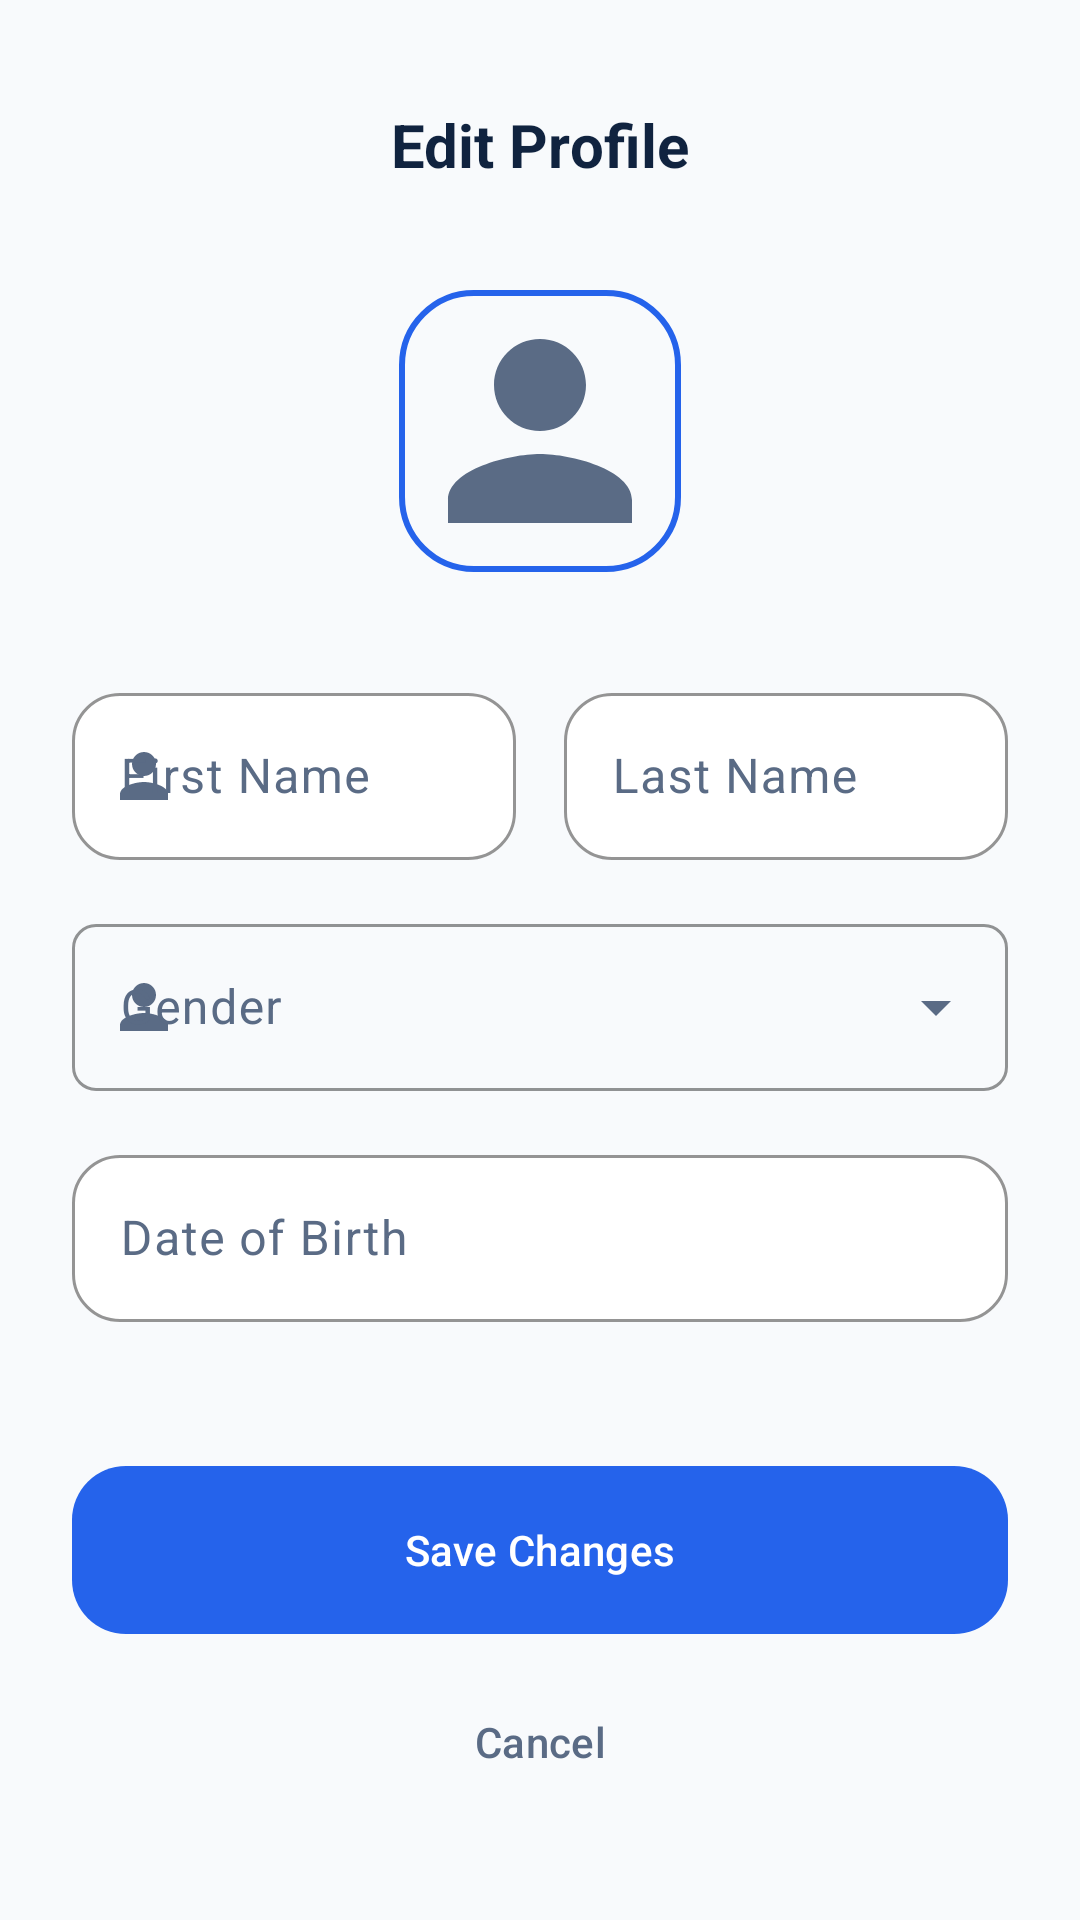

Icon click points for this 1080 × 1920 phone screenshot, format (x=x, y=y):
person: (x=540, y=431)
